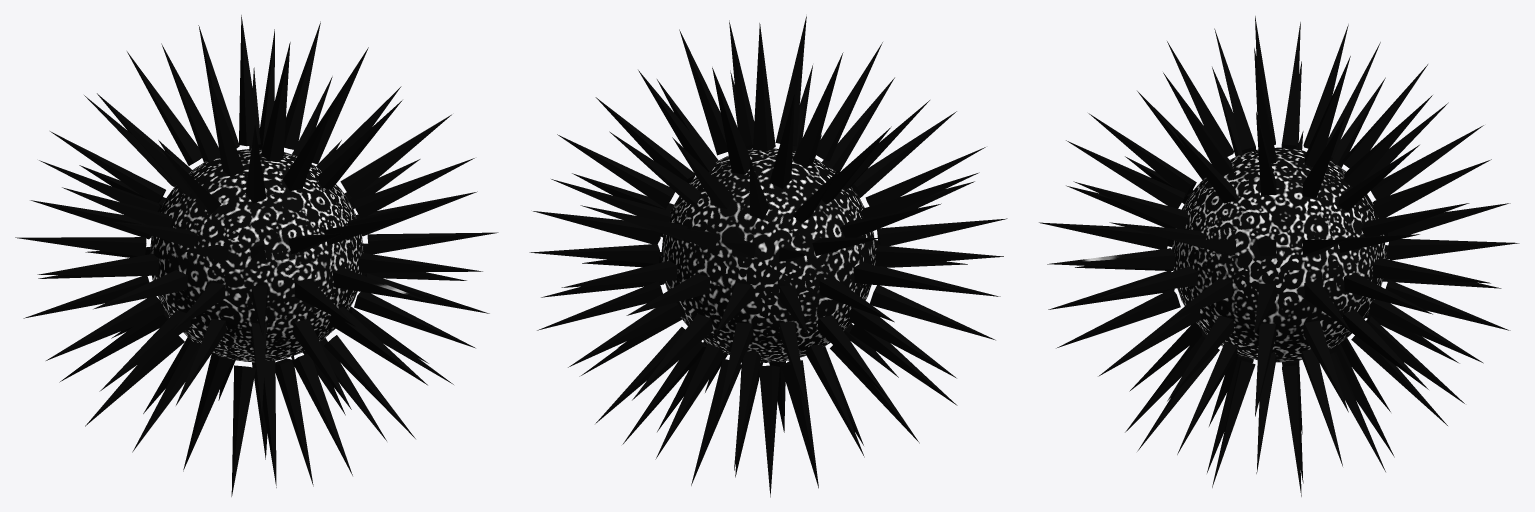
The model's file is Spike.fbx.
The picture shows the model from 3 angles, left to right: view 1: azimuth 30°, elevation 25°; view 2: azimuth 150°, elevation 25°; view 3: azimuth 270°, elevation 25°; orthographic projection.
Parts seen in each view (by area): view 1: SM_spike; view 2: SM_spike; view 3: SM_spike.
Part boxes in pixels (x1,y1,x2,y2): SM_spike: [15, 15, 498, 496]; SM_spike: [529, 16, 1007, 497]; SM_spike: [1039, 16, 1519, 496].
Bounding box in the file's own units: 24.57 × 24.57 × 24.58.
Materials: 1 (1 with a texture image).
